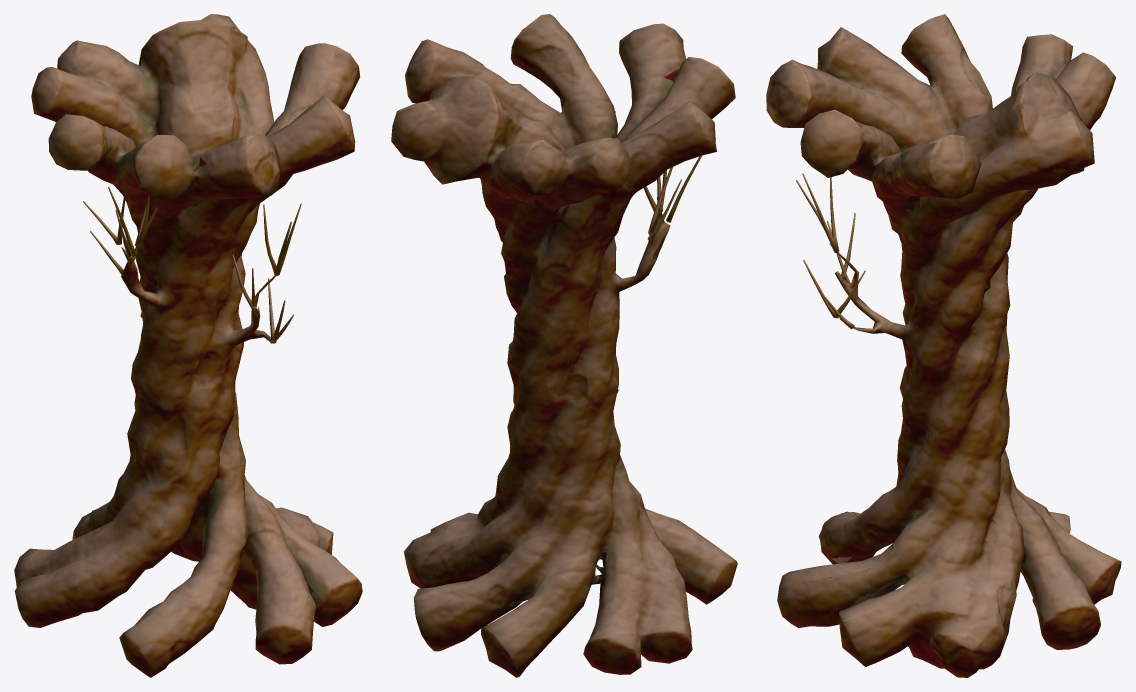
The model's file is rpillar_a.glb.
The picture shows the model from 3 angles, left to right: view 1: azimuth 30°, elevation 25°; view 2: azimuth 150°, elevation 25°; view 3: azimuth 270°, elevation 25°; orthographic projection.
Parts seen in each view (by area): view 1: bark, rootlets; view 2: bark, rootlets; view 3: bark, rootlets.
Boxes of the visible parts, box(x1,y1,x2,y2) form: bark: box(14, 14, 362, 677); rootlets: box(83, 187, 301, 343); bark: box(391, 14, 737, 677); rootlets: box(615, 111, 701, 258); bark: box(766, 14, 1121, 677); rootlets: box(796, 173, 865, 329).
Bounding box in the file's own units: 0.7732 × 1.35 × 0.7561.
Materials: 2 (2 with a texture image).
